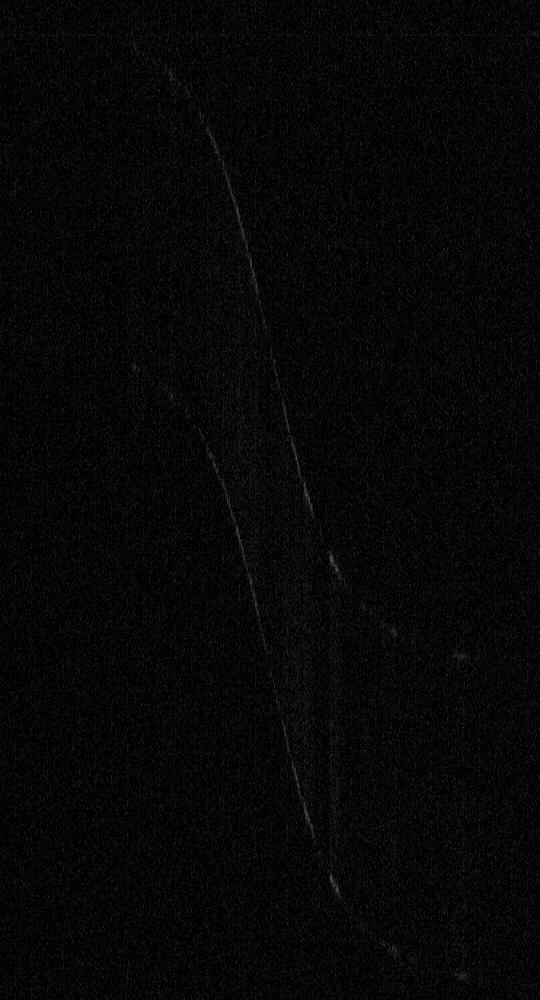signal: (0, 0, 539, 999)
